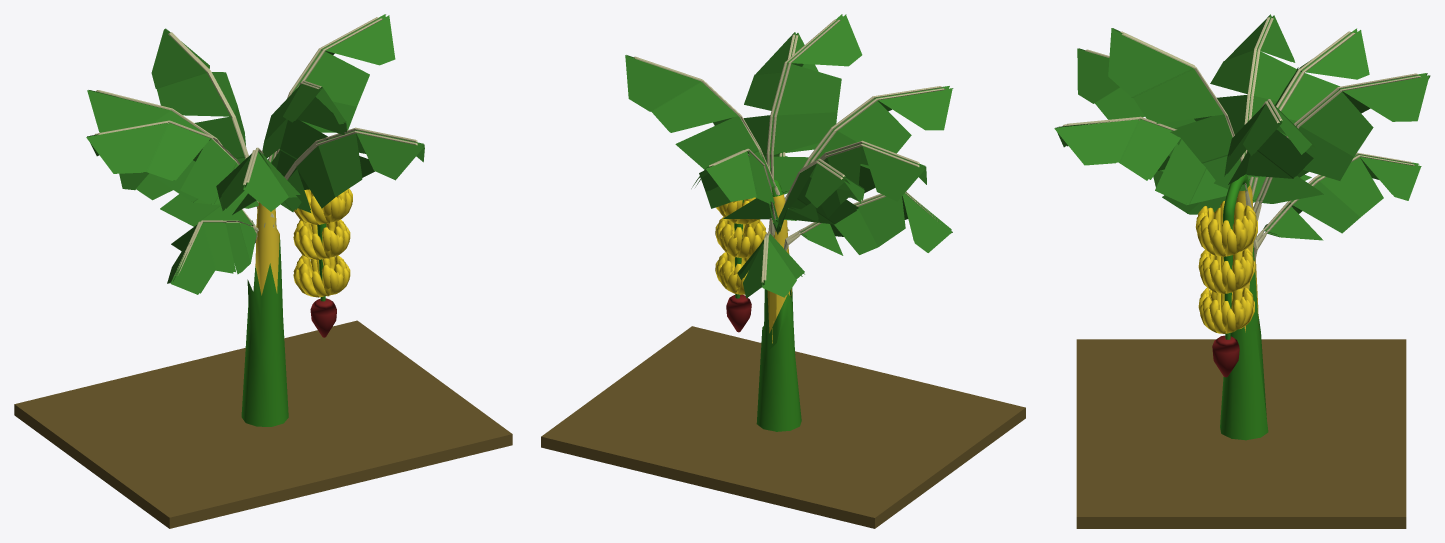
File: object-banana-tree.glb
3 renders of one model, left to right at view 1: azimuth 30°, elevation 25°; view 2: azimuth 150°, elevation 25°; view 3: azimuth 270°, elevation 25°, orthographic. The views are drawn at different scales.
Visible parts, largest first — view 1: Cube, Cylinder, Cube.008, Cube.009, Cube.010, Cube.012, Cube.006, Cube.007, Cube.013, Cube.011, Cube.014, Cylinder.004 (+3 smaller); view 2: Cube, Cube.007, Cube.012, Cylinder, Cube.006, Cube.011, Cube.008, Cube.010, Cube.013, Cube.009, Cube.014, Cylinder.010 (+4 smaller); view 3: Cube, Cube.007, Cube.010, Cube.009, Cube.014, Cylinder, Cube.008, Cube.012, Cube.013, Cube.011, Cylinder.011, Cylinder.001 (+5 smaller).
Boxes of the visible parts, x1,y1,x2,y2 form: Cube: [14, 320, 512, 528]; Cylinder: [241, 202, 326, 426]; Cube.008: [86, 122, 247, 204]; Cube.009: [287, 130, 424, 212]; Cube.010: [151, 28, 246, 163]; Cube.012: [268, 14, 395, 162]; Cube.006: [167, 222, 256, 294]; Cube.007: [261, 82, 346, 179]; Cube.013: [87, 90, 258, 208]; Cube.011: [216, 151, 301, 214]; Cube.014: [119, 172, 254, 226]; Cylinder.004: [284, 127, 417, 180]; Cube: [541, 326, 1025, 528]; Cube.007: [769, 14, 862, 192]; Cube.012: [625, 55, 776, 186]; Cylinder: [734, 179, 801, 431]; Cube.006: [799, 193, 952, 255]; Cube.011: [809, 86, 953, 168]; Cube.008: [788, 143, 926, 222]; Cube.010: [691, 151, 780, 228]; Cube.013: [773, 161, 864, 234]; Cube.009: [743, 32, 819, 194]; Cube.014: [737, 233, 804, 298]; Cylinder.010: [766, 19, 840, 230]; Cube: [1076, 339, 1406, 528]; Cube.007: [1108, 28, 1247, 190]; Cube.010: [1256, 73, 1430, 203]; Cube.009: [1054, 119, 1228, 205]; Cube.014: [1263, 154, 1421, 240]; Cylinder: [1220, 174, 1268, 440]; Cube.008: [1210, 14, 1296, 181]; Cube.012: [1224, 101, 1315, 184]; Cube.013: [1251, 28, 1369, 202]; Cube.011: [1077, 48, 1195, 171]; Cylinder.011: [1253, 73, 1420, 248]; Cylinder.001: [1212, 335, 1239, 377].
Size of the model in its own units: 486 by 524 by 436.
